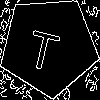T: (24, 20, 63, 73)
